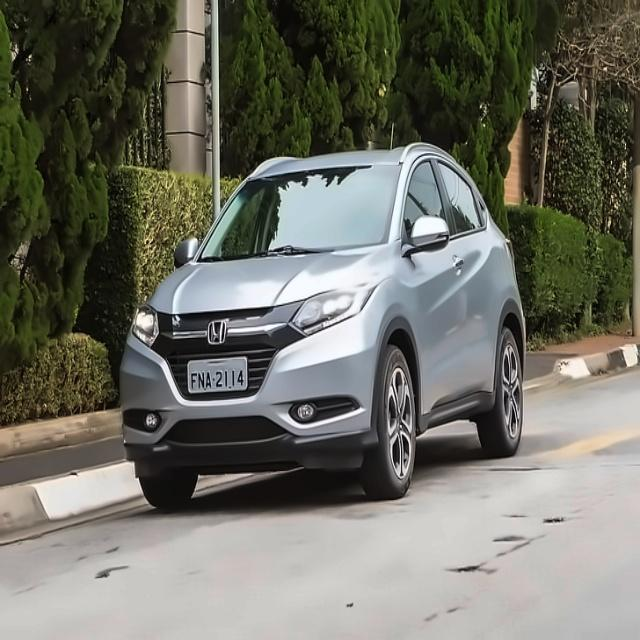Car hood: (140, 230, 403, 315)
Fender - -F-L-: (366, 229, 425, 420)
Fender - -R-L-: (496, 246, 526, 345)
Front bumper: (97, 329, 387, 472)
Headlight - -L-: (287, 277, 397, 338)
Headlight - -R-: (120, 291, 176, 354)
Passenger-s door - -F-L-: (405, 149, 469, 415)
Passenger-s door - -R-L-: (441, 147, 505, 415)
Rear light - -L-: (490, 229, 545, 269)
Side bumper - -L-: (408, 383, 506, 439)
Side mirror - -L-: (400, 211, 454, 257)
Side mirror - -R-: (167, 222, 208, 270)
